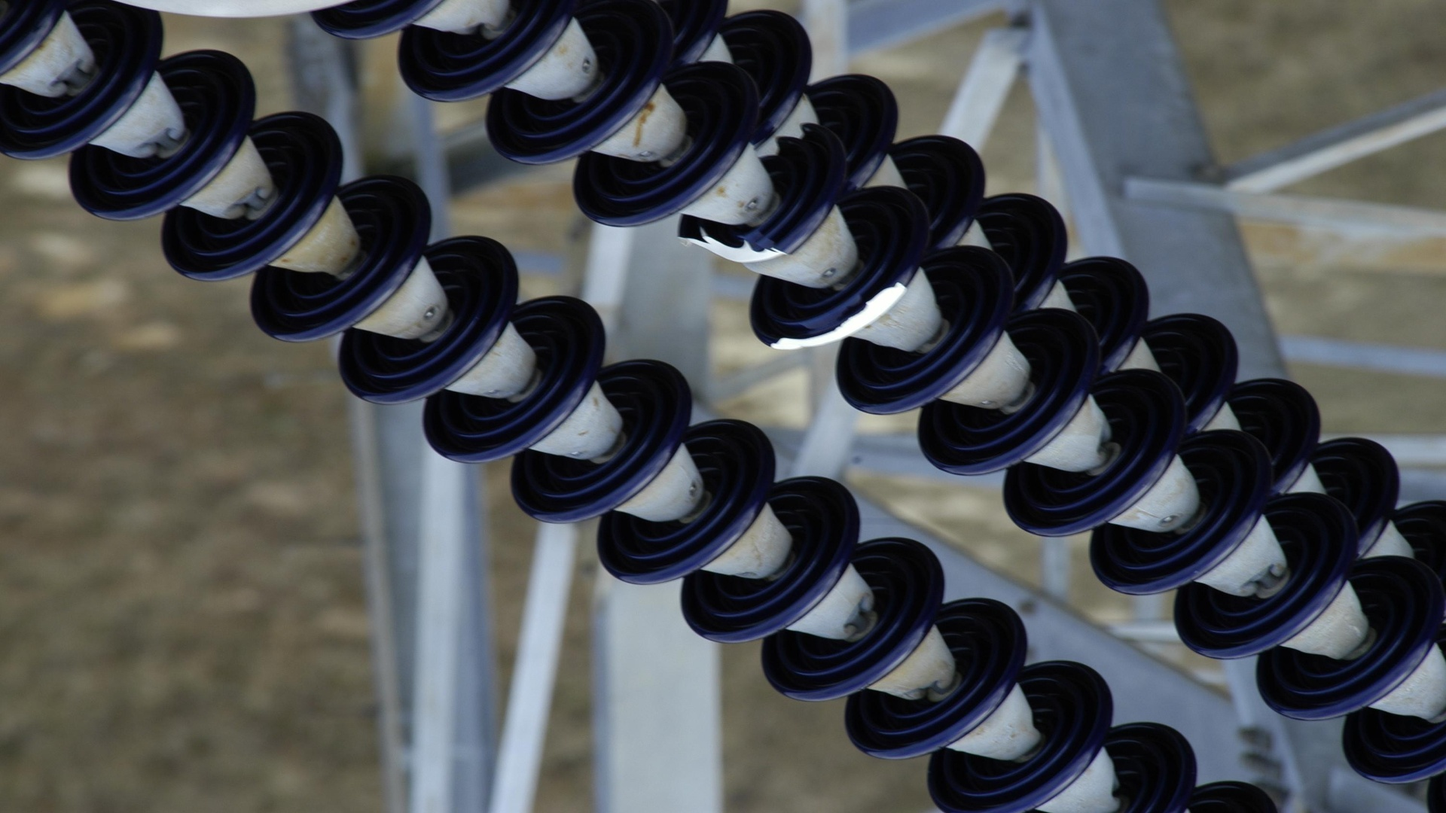insulator: (1, 1, 1285, 813), (299, 1, 1446, 813)
insulator_breakage: (764, 277, 914, 354), (673, 218, 796, 266)
